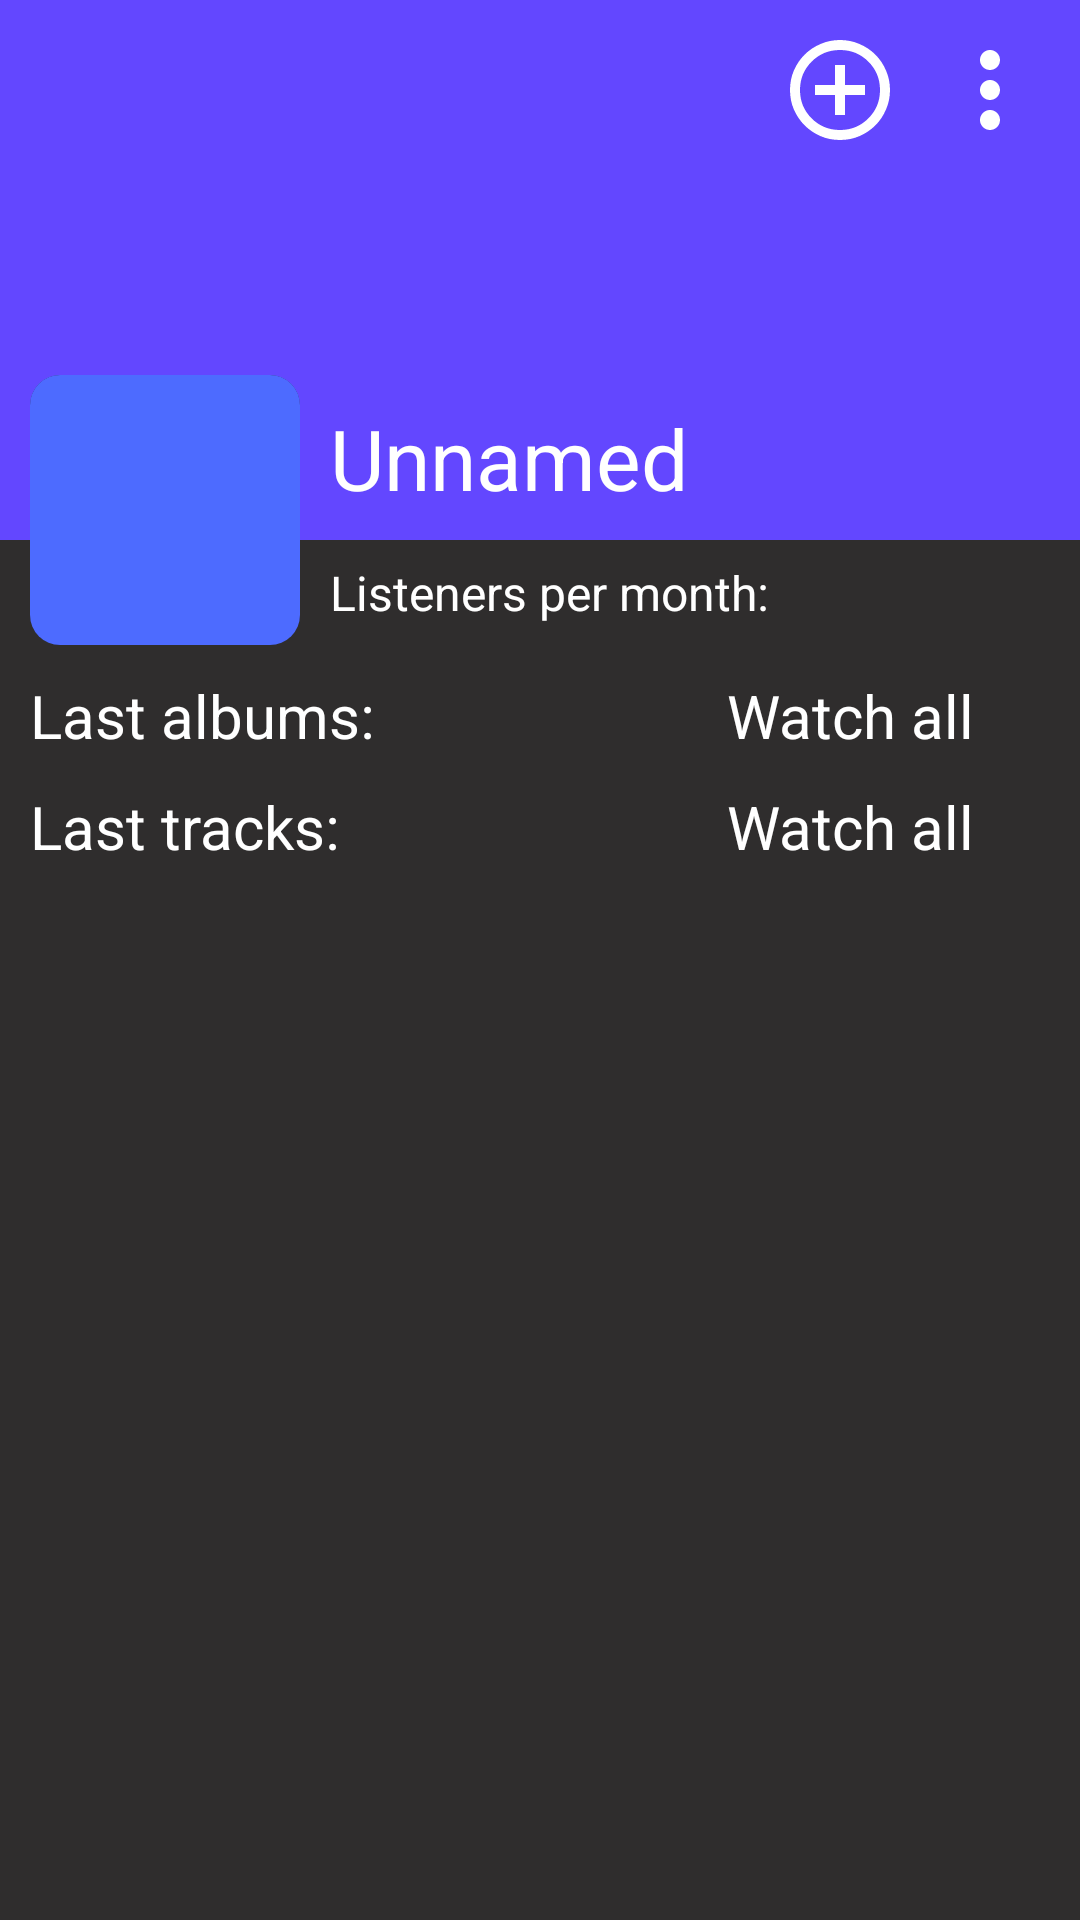

Icon bounding boxes for this 1080x1920 phone screenshot, format [x1=x1, y1=y1, x2=x2, y2=y2]:
add: [x1=790, y1=40, x2=890, y2=140]
more: [x1=980, y1=50, x2=1000, y2=130]
